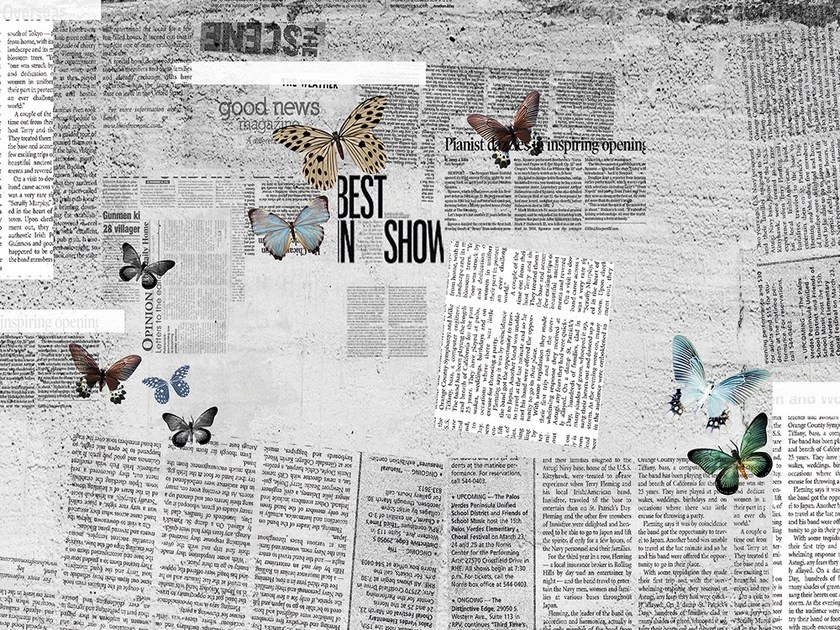news_paper: (1, 1, 839, 630)
